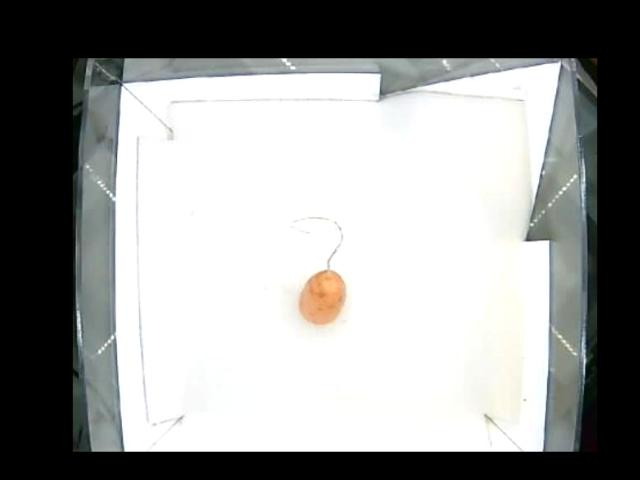Carrot: (289, 264, 346, 323)
